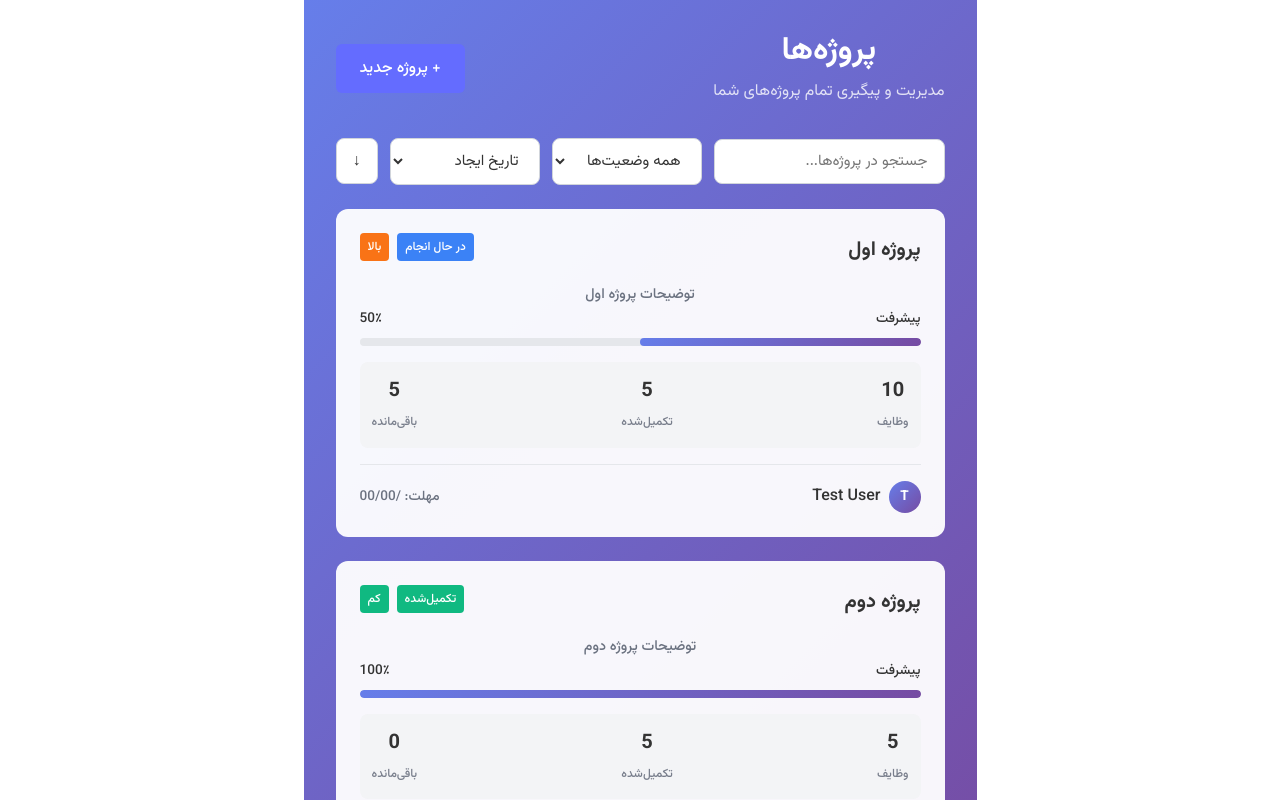
Test case: ProjectsList › Create project modal › opens the create project modal when "+ پروژه جدید" button is clicked
Expected: the heading "پروژه اول" is shown, [848,233,920,267]
Click the button "+ پروژه جدید" at (400, 69), box [336,44,465,93]
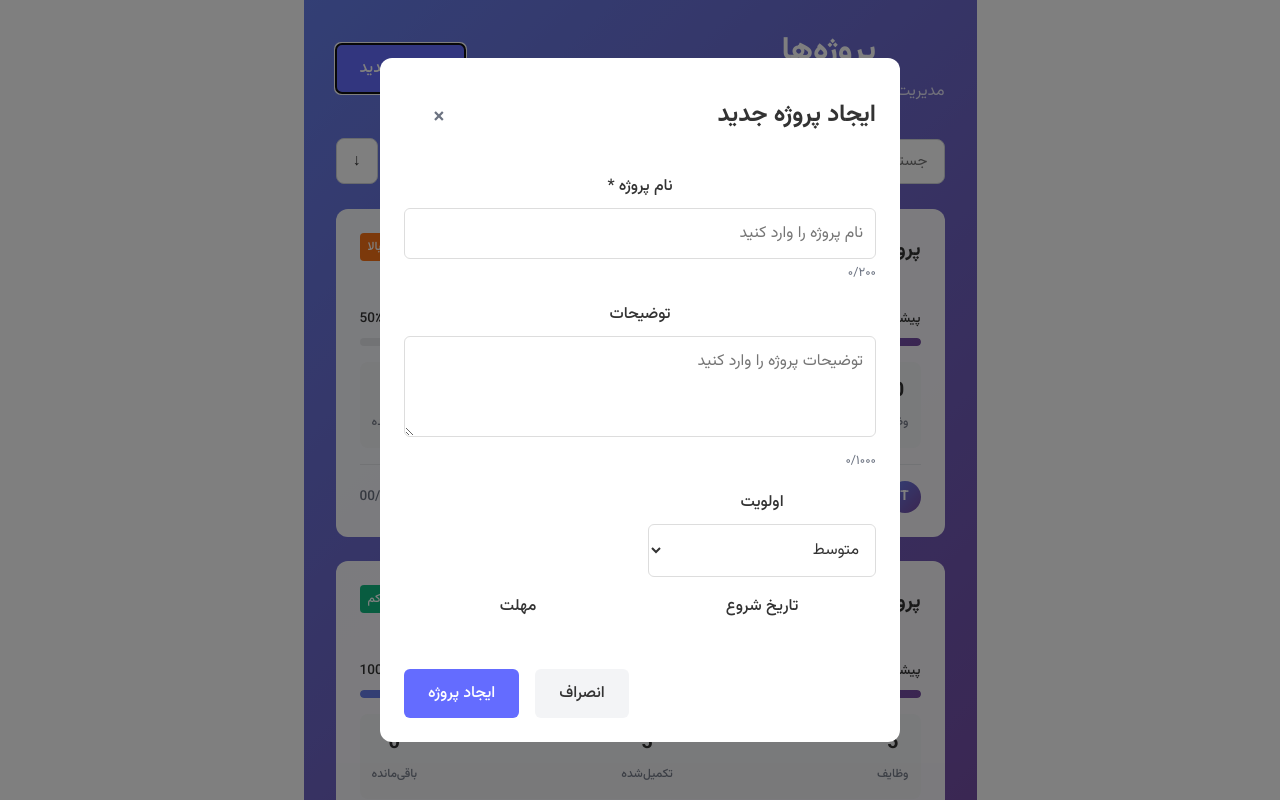
Now the heading "ایجاد پروژه جدید" is shown, box [718,95,876,136]
